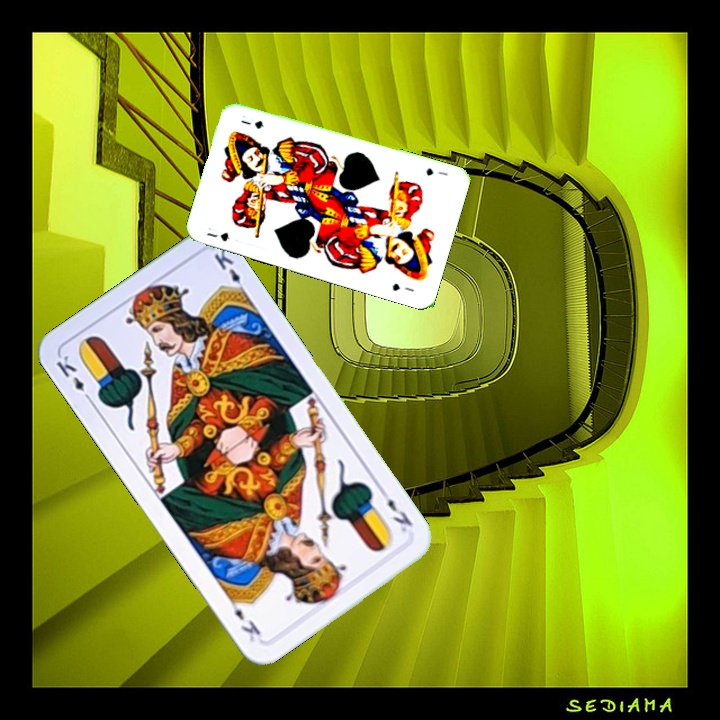EK: (52, 351, 95, 405), (375, 484, 416, 535)
GU: (203, 223, 233, 244), (422, 164, 450, 178)
